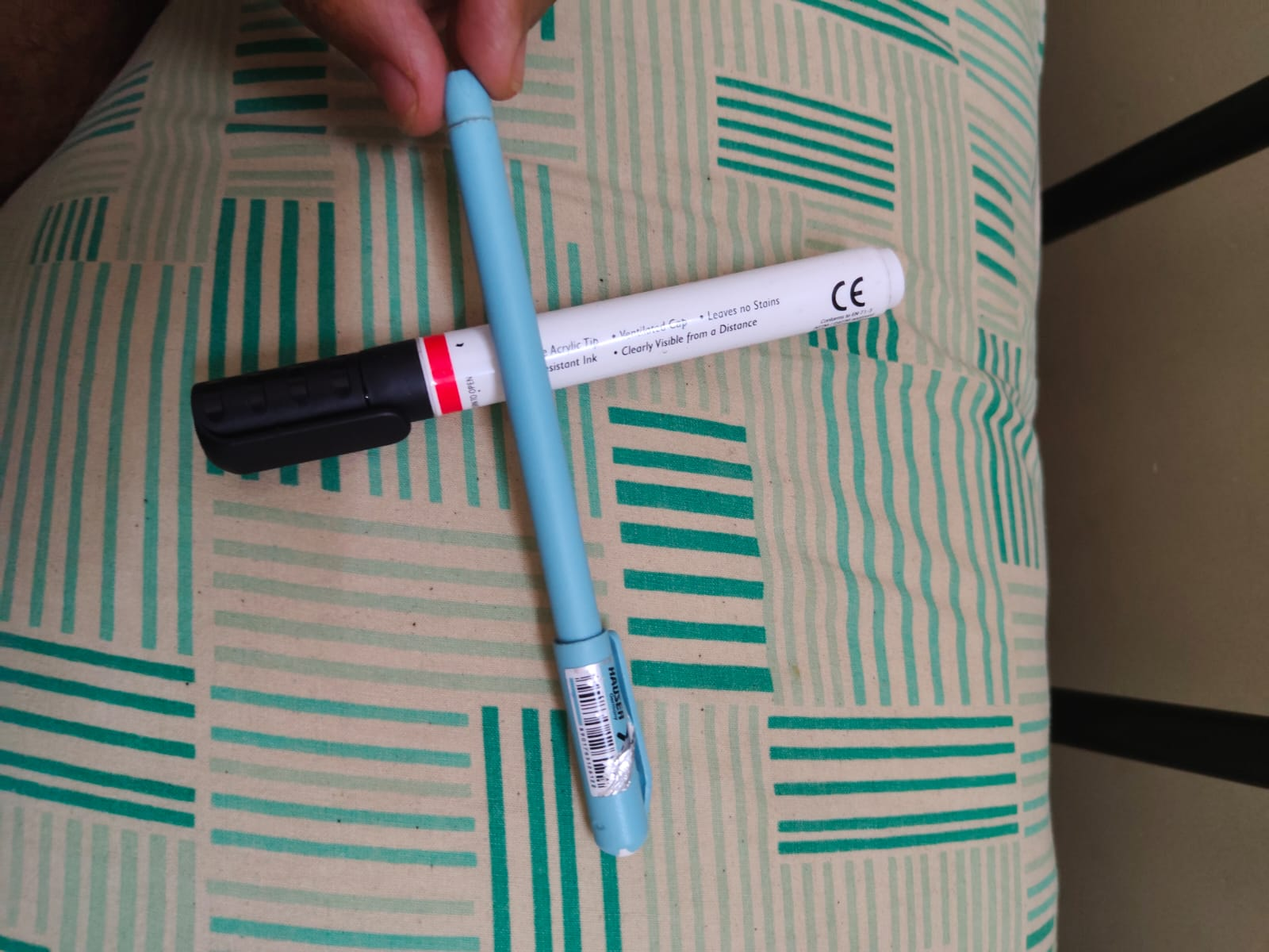case: (177, 232, 896, 503)
pen: (425, 63, 700, 873)
